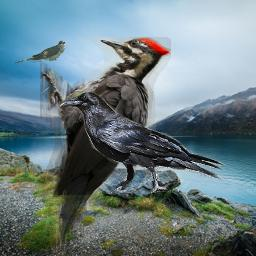Crow: (59, 91, 231, 196)
Cuckoo: (13, 40, 65, 64)
Woodpecker: (40, 37, 171, 253)
